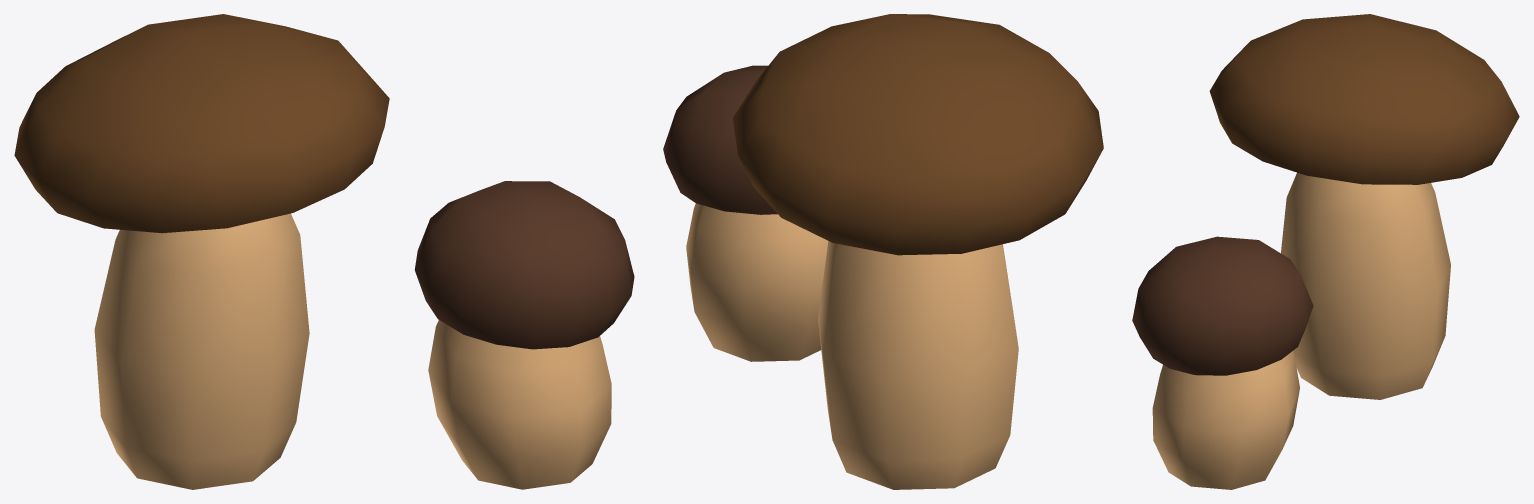
Rendered from Bay_Bolete_Group_1.glb.
3 views of the same model, side by side, from view 1: azimuth 30°, elevation 25°; view 2: azimuth 150°, elevation 25°; view 3: azimuth 270°, elevation 25° (orthographic). The views are drawn at different scales.
Parts seen in each view (by area): view 1: Bay_Bolete_Group_1; view 2: Bay_Bolete_Group_1; view 3: Bay_Bolete_Group_1.
Part boxes in pixels (left/top/right/bottom): Bay_Bolete_Group_1: left=14, top=14, right=634, bottom=489; Bay_Bolete_Group_1: left=663, top=14, right=1103, bottom=489; Bay_Bolete_Group_1: left=1132, top=14, right=1519, bottom=489.
Size of the model in its own units: 0.3744 by 0.3035 by 0.3092.
1 material, 1 textured.
